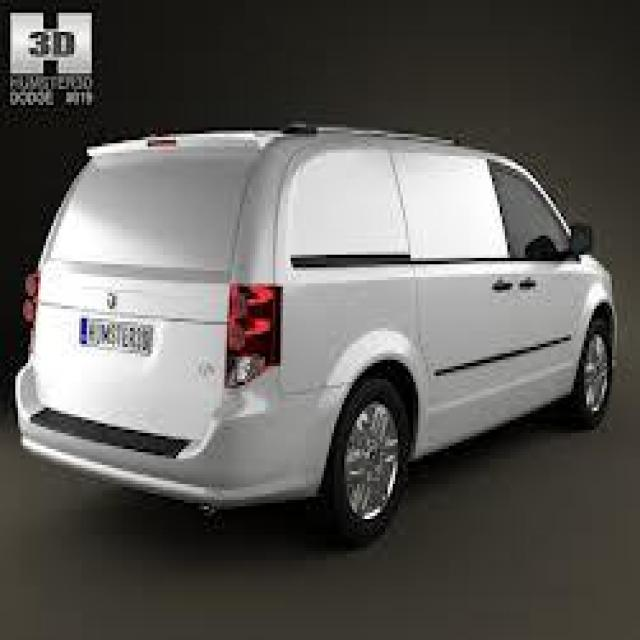car: (16, 124, 618, 550)
